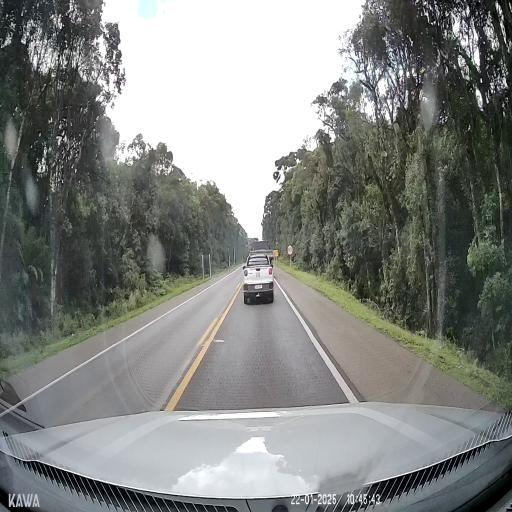R-19: (287, 245, 293, 256)
